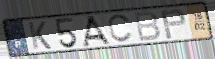5: (53, 16, 78, 49)
A: (82, 14, 113, 48)
B: (132, 10, 162, 43)
C: (107, 13, 134, 44)
K: (26, 20, 53, 51)
P: (160, 8, 188, 41)
